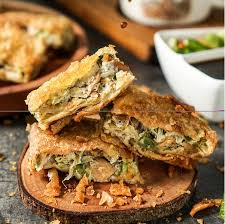Martabak telur: (25, 45, 137, 134), (107, 85, 217, 163), (18, 123, 142, 189)
